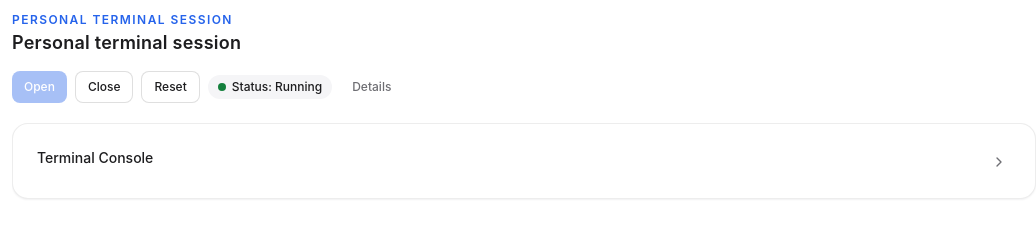
Test case: TerminalBenchCard › detaches a running attachment without immediately auto-reattaching
The width and height of the screenshot is (1036, 249).
Expected: the text "Status: Running" is shown, [208,74,332,98]
Click the button "Close" at x=104, y=86, box [75,70,134,102]
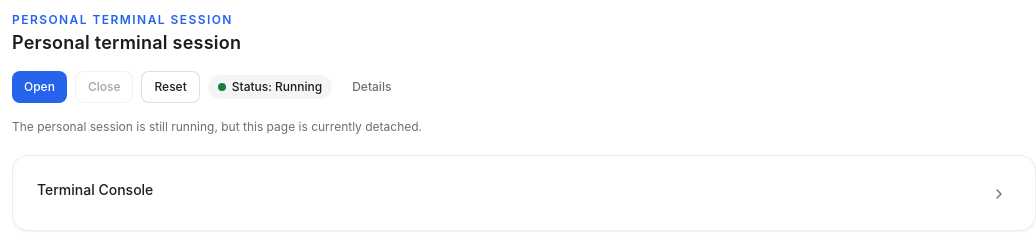
Expected: the text "The personal session is still running, but this page is currently detached." is shown, [12,118,422,134]
